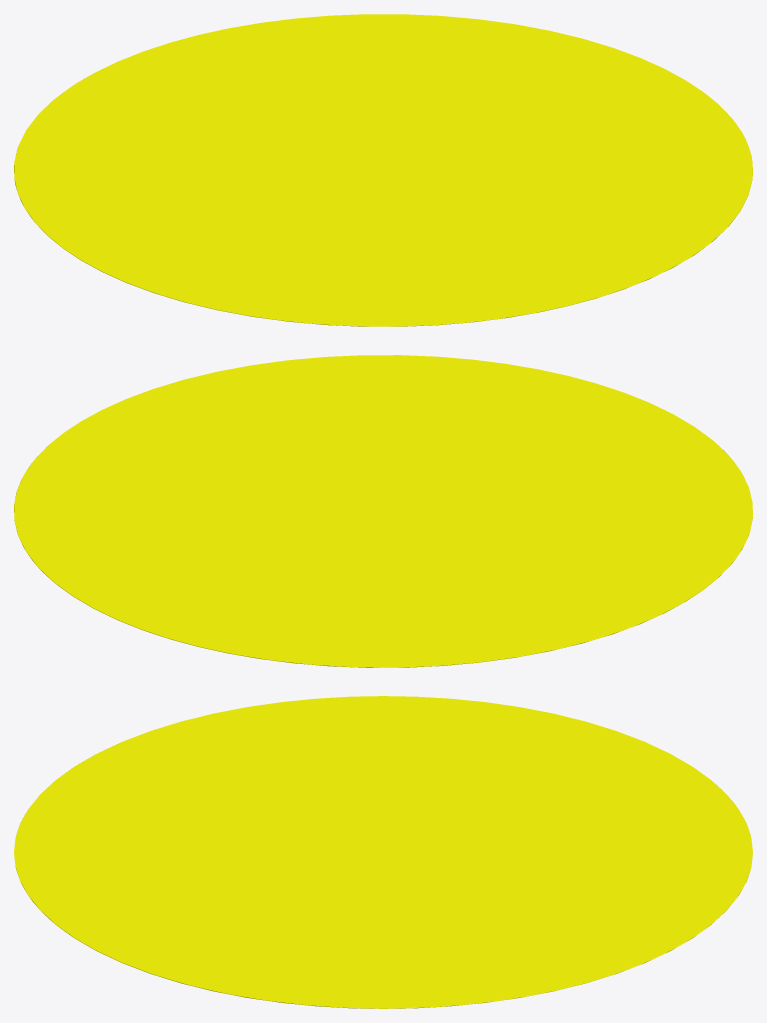
Rendered from yellow_area.dae.
3 views of the same model, one above another, from view 1: azimuth 30°, elevation 25°; view 2: azimuth 150°, elevation 25°; view 3: azimuth 270°, elevation 25° (orthographic).
Parts seen in each view (by area): view 1: Body1; view 2: Body1; view 3: Body1.
Boxes of the visible parts, left/top/right/bottom form: Body1: left=14, top=14, right=752, bottom=326; Body1: left=14, top=355, right=752, bottom=667; Body1: left=14, top=696, right=752, bottom=1008.
Bounding box in the file's own units: 12.08 × 12.08 × 0.01.
